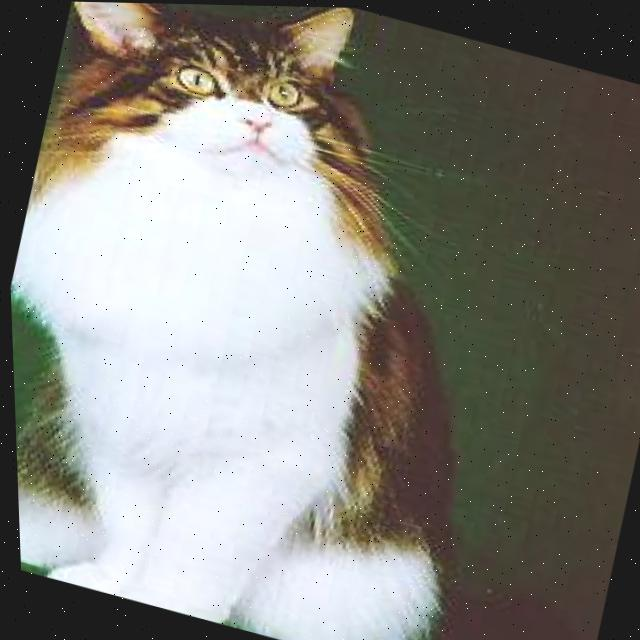Maine Coon: (0, 0, 579, 640)
